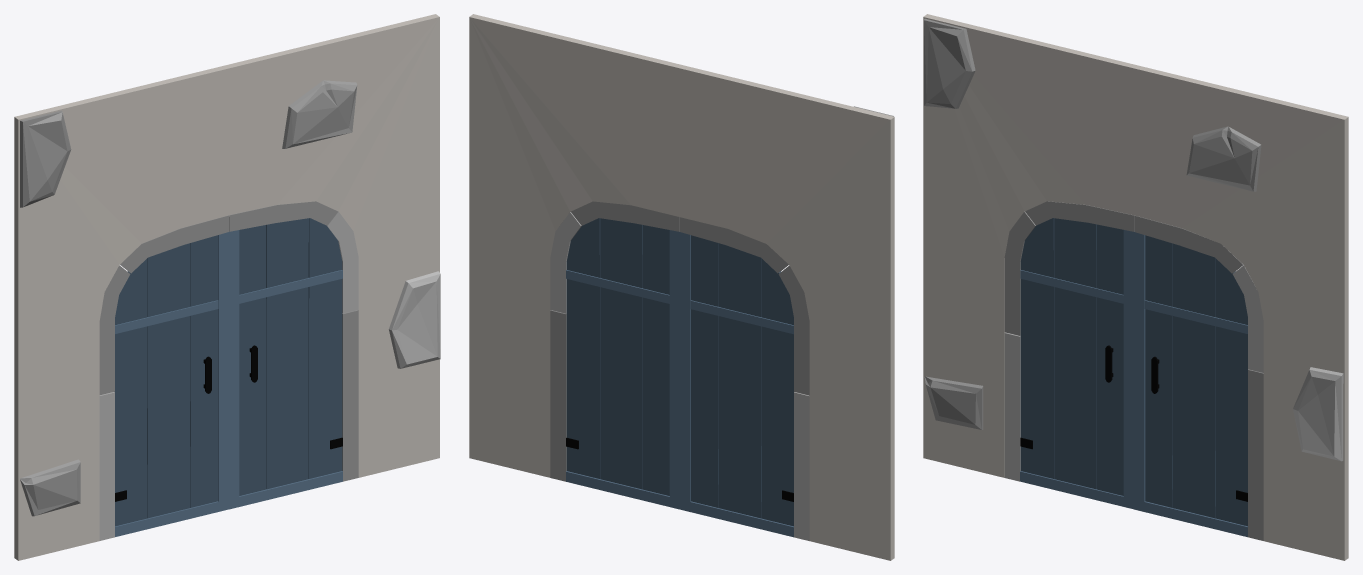
Rendered from _DOOR_03_1.fbx.
3 views of the same model, side by side, from view 1: azimuth 30°, elevation 25°; view 2: azimuth 150°, elevation 25°; view 3: azimuth 330°, elevation 25° (orthographic).
Visible parts, largest first — view 1: DOOR_03_1; view 2: DOOR_03_1; view 3: DOOR_03_1.
Boxes of the visible parts, x1,y1,x2,y2 form: DOOR_03_1: (14,14,440,560); DOOR_03_1: (469,14,894,560); DOOR_03_1: (923,14,1348,560).
Size of the model in its own units: 300 by 300 by 11.12.
